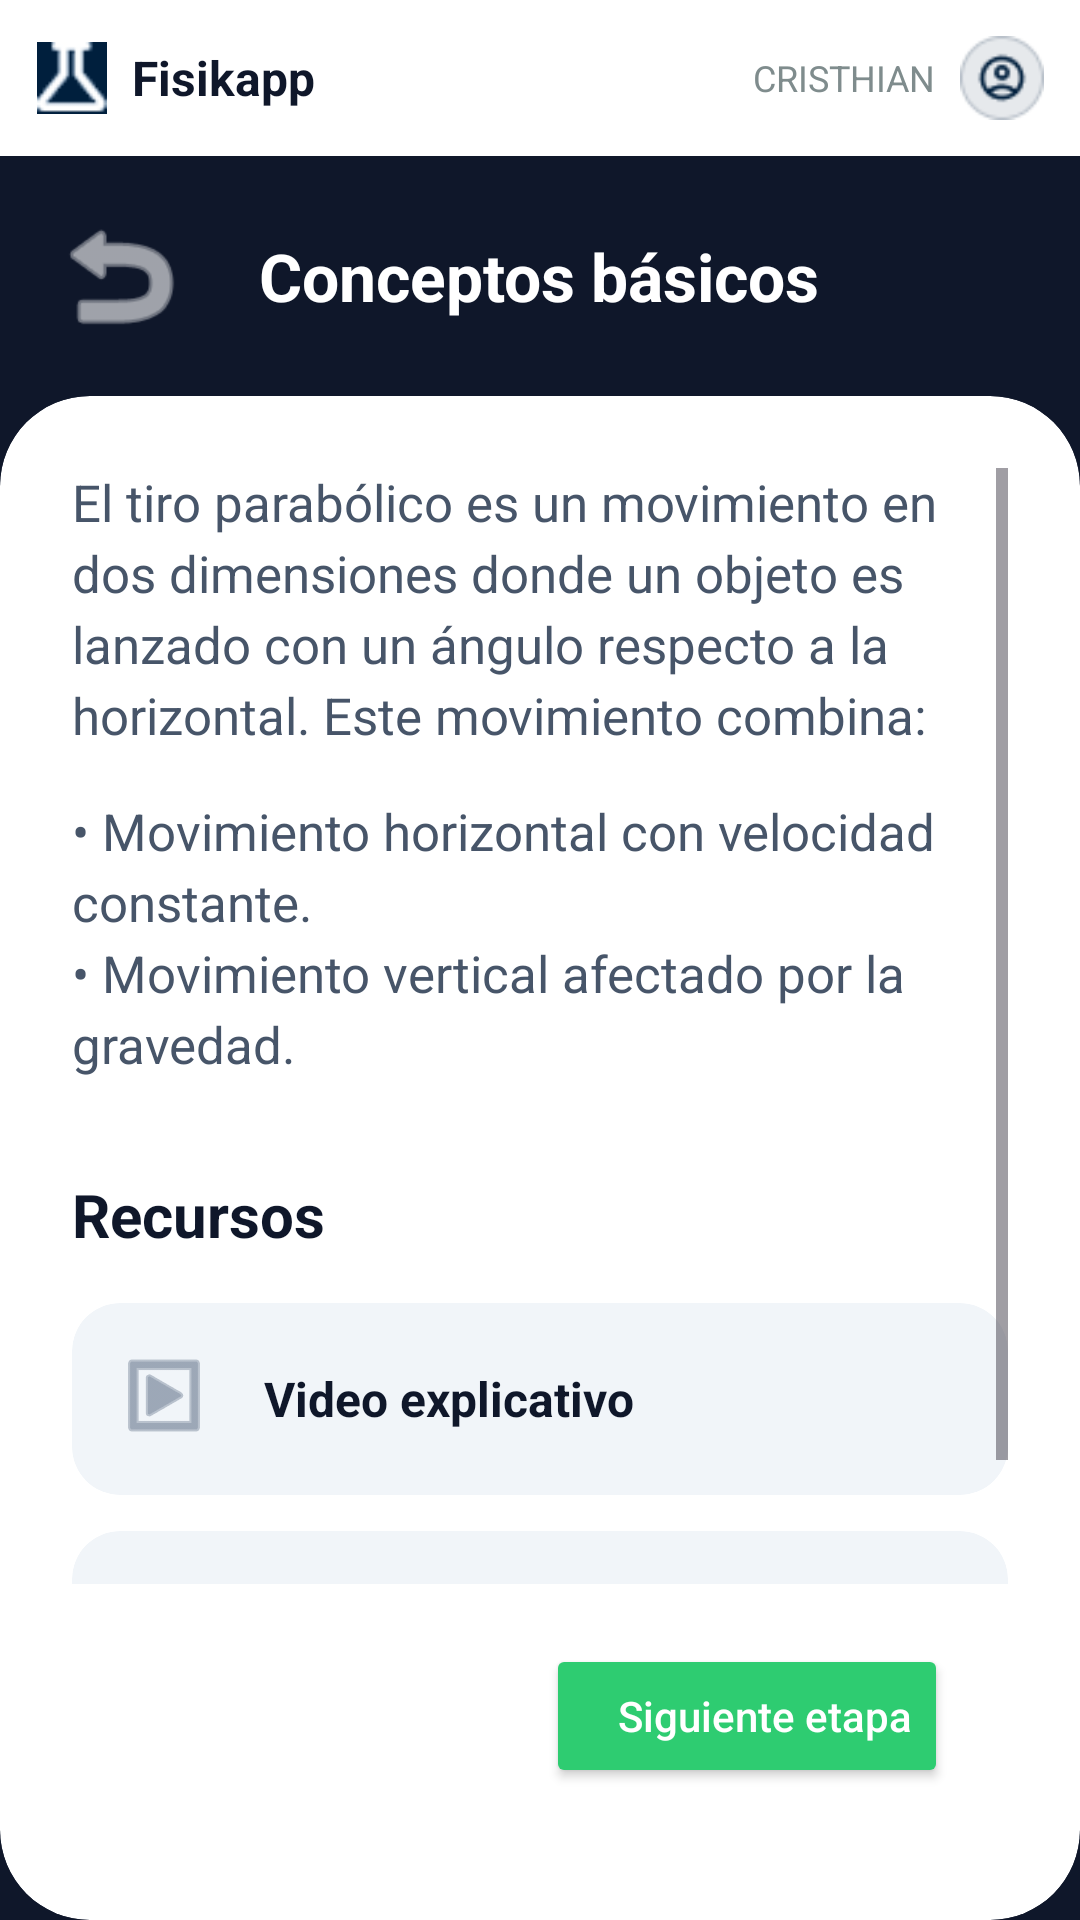

Named icons in this screenshot (1080*1920) and their bounding boxes, (x1, y1, x2, y2):
Botón regresar: (70, 230, 174, 324)
iconofisik: (37, 42, 107, 114)
iconousuario: (960, 36, 1044, 120)
slideshow: (128, 1359, 200, 1432)
